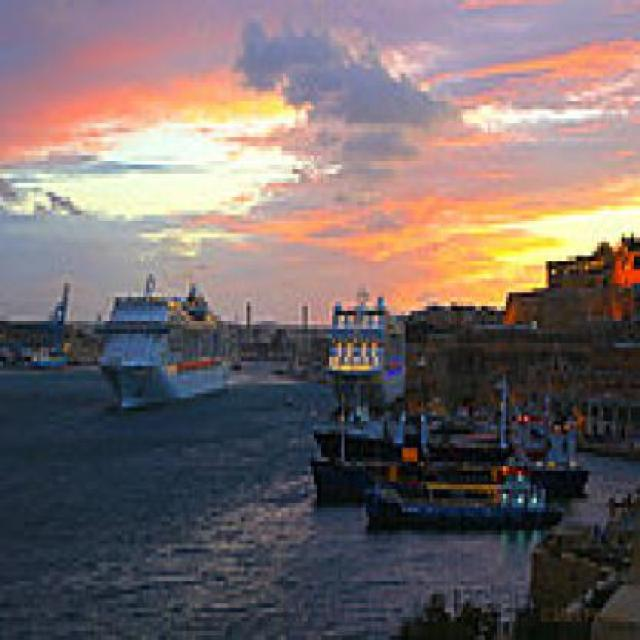cruise: (92, 262, 248, 422)
